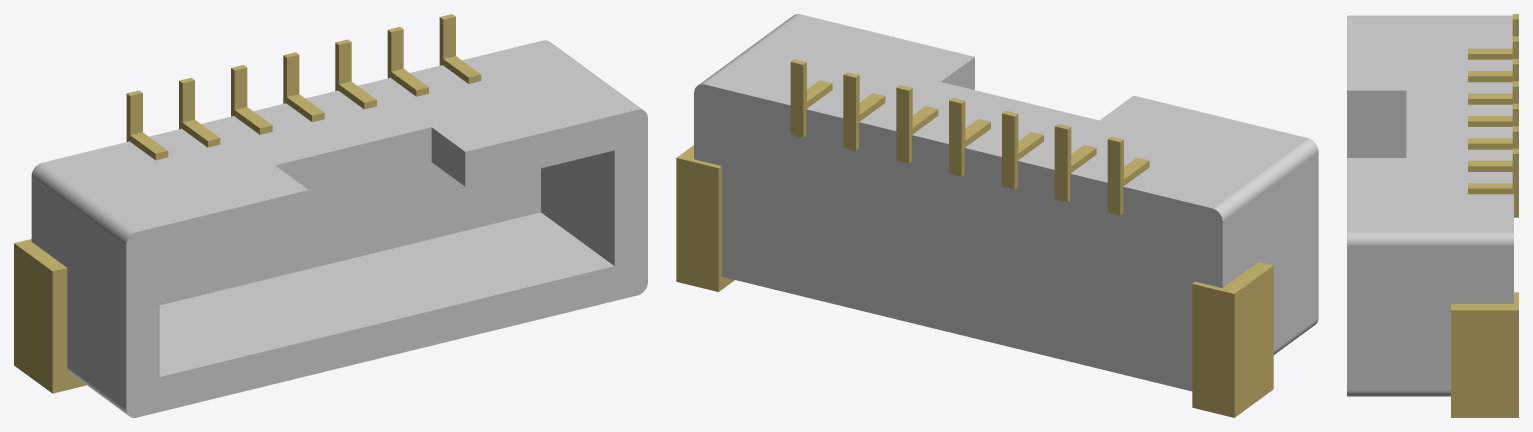
The model's file is jst_gh_7pin.glb.
The picture shows the model from 3 angles, left to right: view 1: azimuth 30°, elevation 25°; view 2: azimuth 150°, elevation 25°; view 3: azimuth 270°, elevation 25°; orthographic projection. The views are drawn at different scales.
Visible parts, largest first — view 1: world; view 2: world; view 3: world.
Boxes of the visible parts, bbox=[...] form: world: bbox=[14, 14, 647, 417]; world: bbox=[676, 14, 1318, 417]; world: bbox=[1347, 14, 1518, 417].
Bounding box in the file's own units: 13.2 × 5.6 × 4.05.
